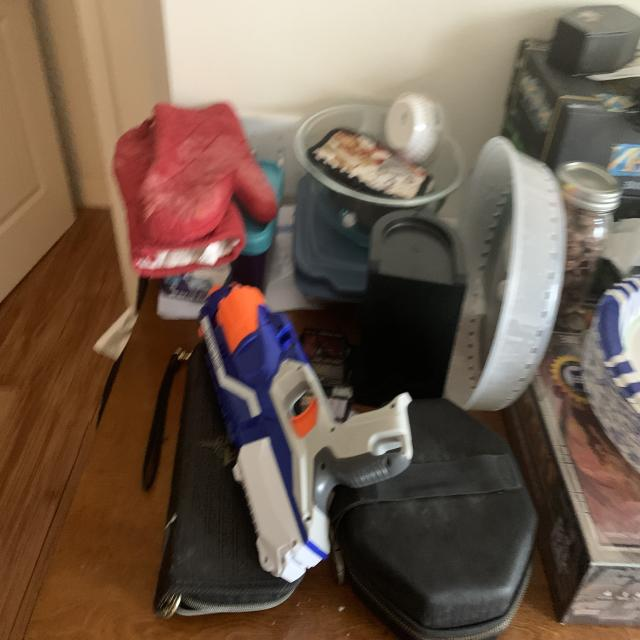nerf-maverik: (194, 270, 418, 590)
